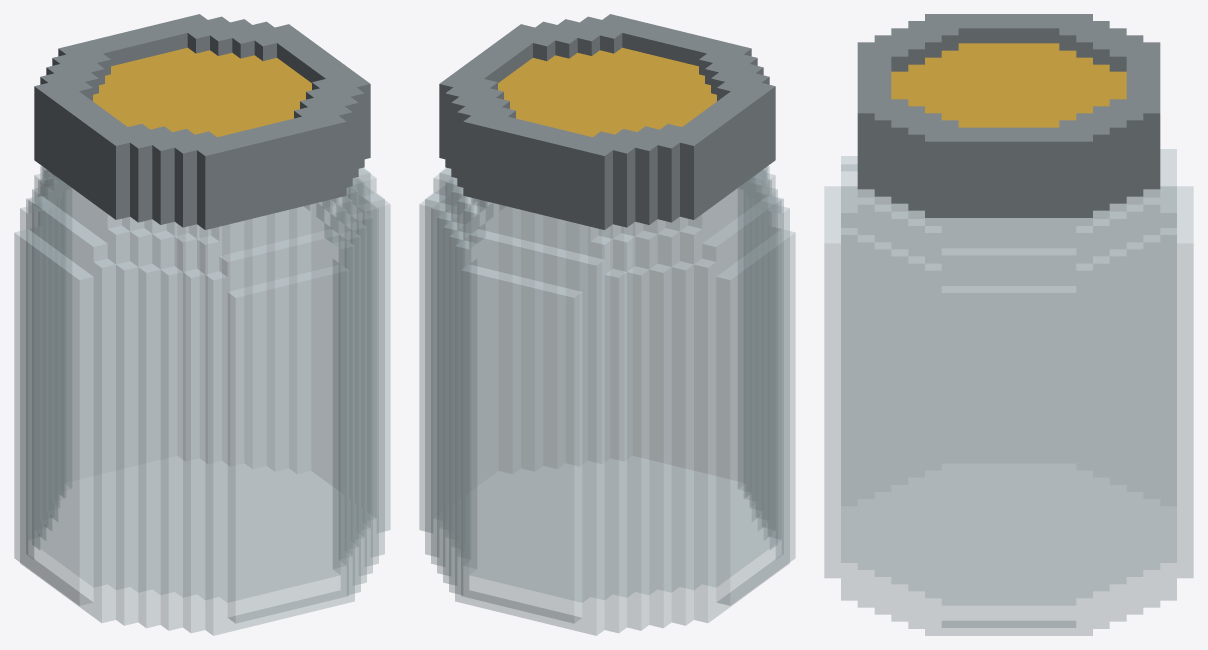
File: jar_glass_sealed.glb
The picture shows the model from 3 angles, left to right: view 1: azimuth 30°, elevation 25°; view 2: azimuth 150°, elevation 25°; view 3: azimuth 270°, elevation 25°; orthographic projection. The views are drawn at different scales.
Parts seen in each view (by area): view 1: jar_glass_sealed:compound; view 2: jar_glass_sealed:compound; view 3: jar_glass_sealed:compound.
Part boxes in pixels (bbox=[...]): jar_glass_sealed:compound: bbox=[14, 14, 390, 635]; jar_glass_sealed:compound: bbox=[419, 14, 795, 635]; jar_glass_sealed:compound: bbox=[824, 14, 1193, 635].
Size of the model in its own units: 0.088 by 0.128 by 0.088.
